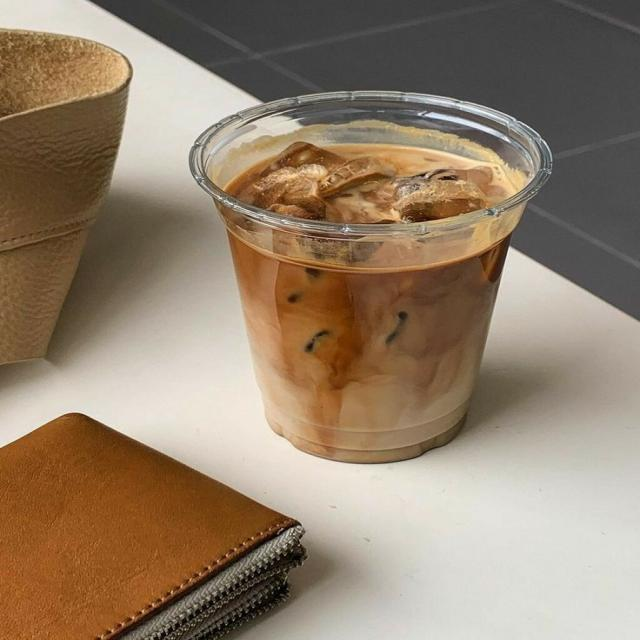plastic cup: (191, 90, 552, 464)
